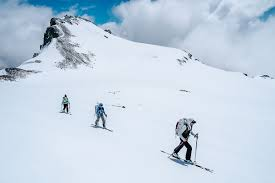skis: (159, 147, 212, 173), (94, 124, 115, 134), (61, 110, 76, 117)
